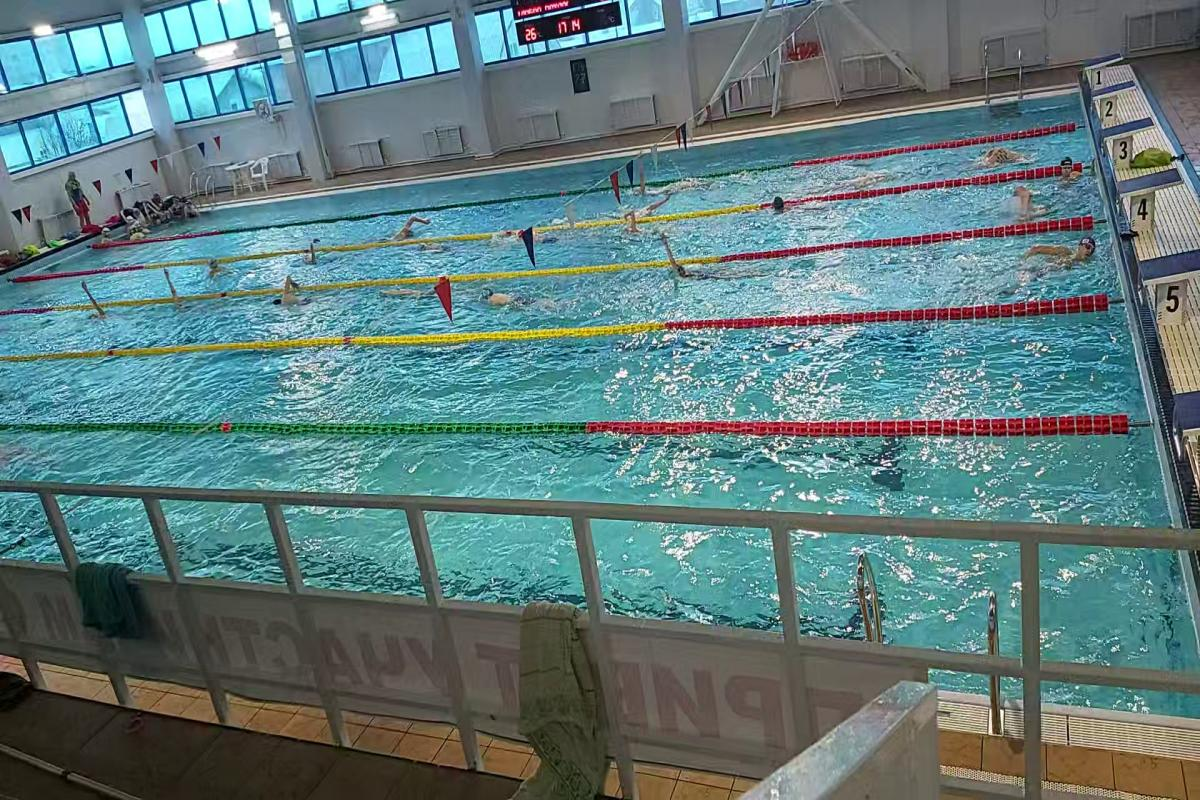swimmer: (1014, 228, 1110, 296), (659, 231, 771, 286), (475, 274, 582, 315), (72, 276, 120, 324), (973, 139, 1043, 168), (155, 264, 197, 311), (1050, 154, 1090, 190), (377, 216, 441, 237), (272, 279, 315, 308), (296, 245, 332, 272), (202, 254, 232, 277)
